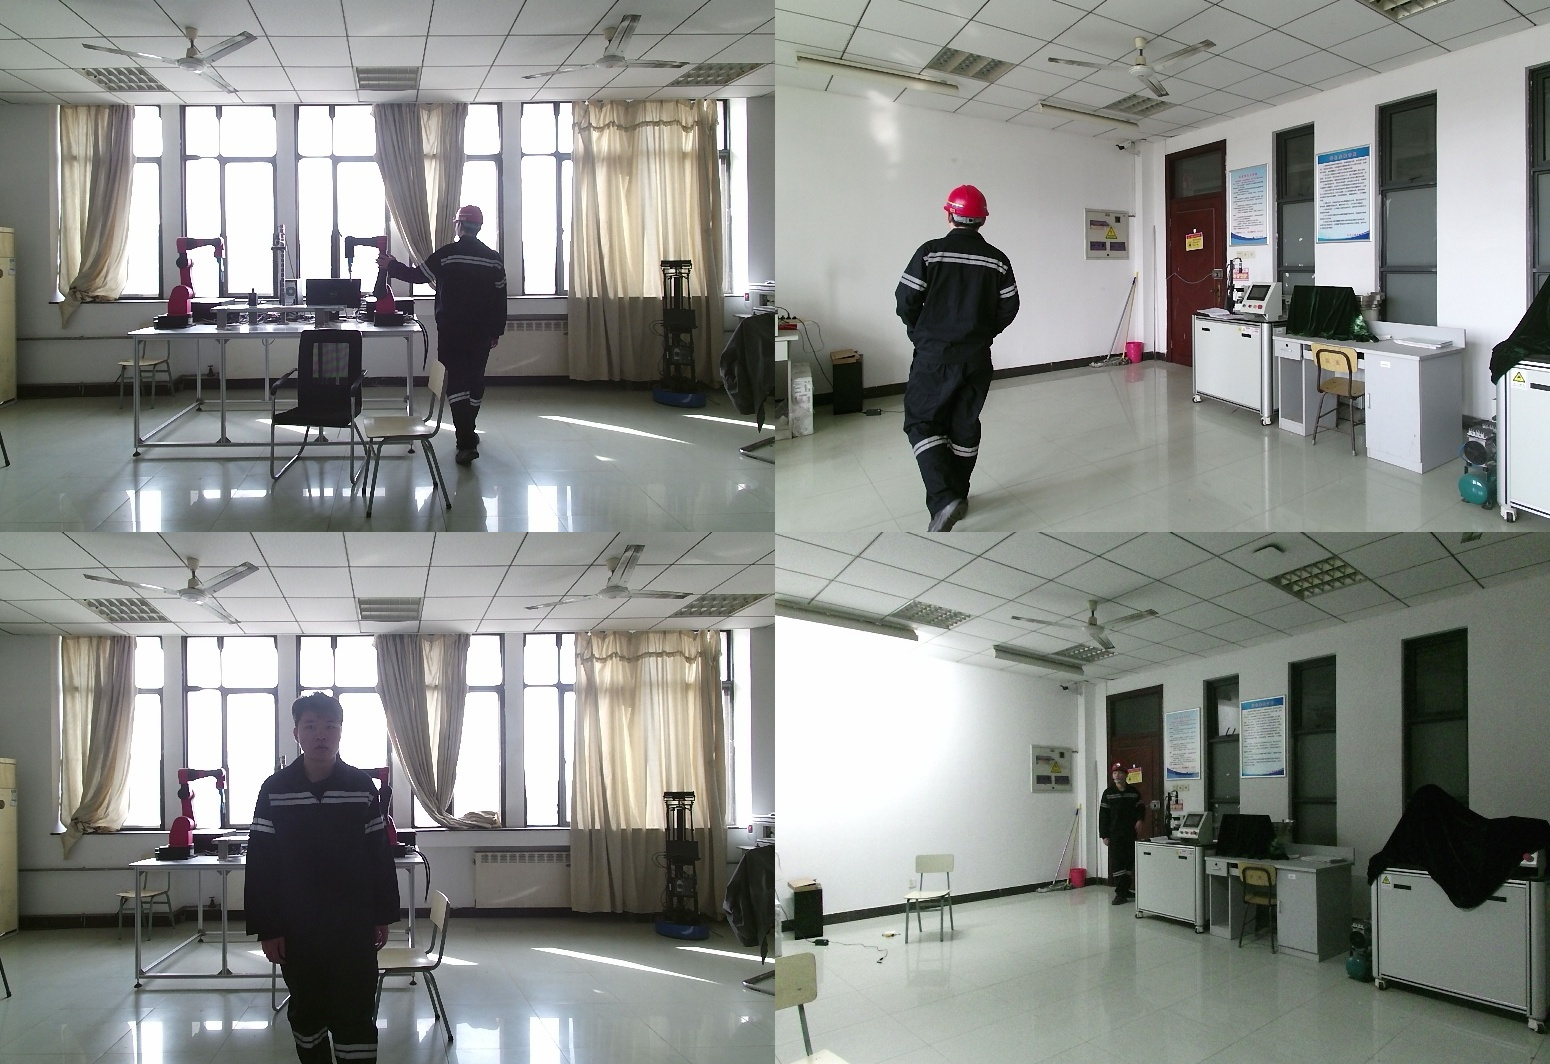person: (251, 697, 404, 1064), (888, 182, 1024, 532), (379, 204, 520, 471), (1096, 760, 1155, 906)
